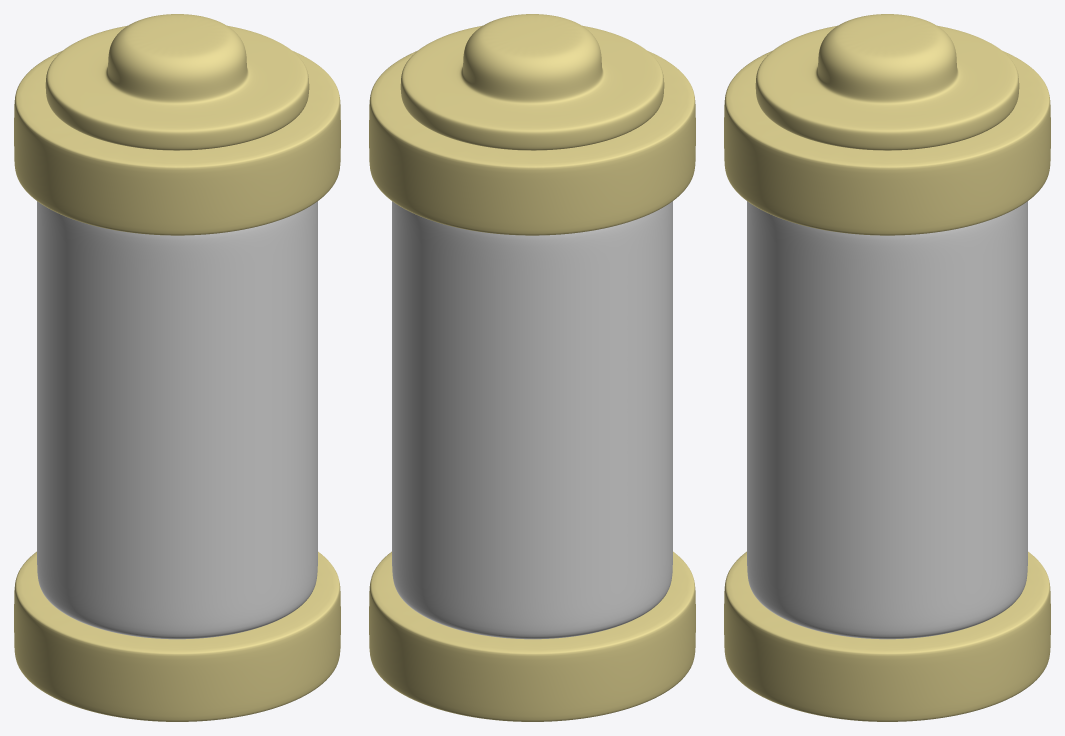
File: battery_low.fbx
3 renders of one model, left to right at view 1: azimuth 30°, elevation 25°; view 2: azimuth 150°, elevation 25°; view 3: azimuth 270°, elevation 25°, orthographic.
Visible parts, largest first — view 1: Circle.001, Circle; view 2: Circle.001, Circle; view 3: Circle.001, Circle.
Part boxes in pixels (box(x1,y1,x2,y2)): Circle.001: box(37, 201, 317, 639); Circle: box(14, 14, 340, 721); Circle.001: box(392, 201, 672, 639); Circle: box(369, 14, 695, 721); Circle.001: box(747, 201, 1027, 639); Circle: box(724, 14, 1050, 721).
Bounding box in the file's own units: 161 × 337 × 161.
